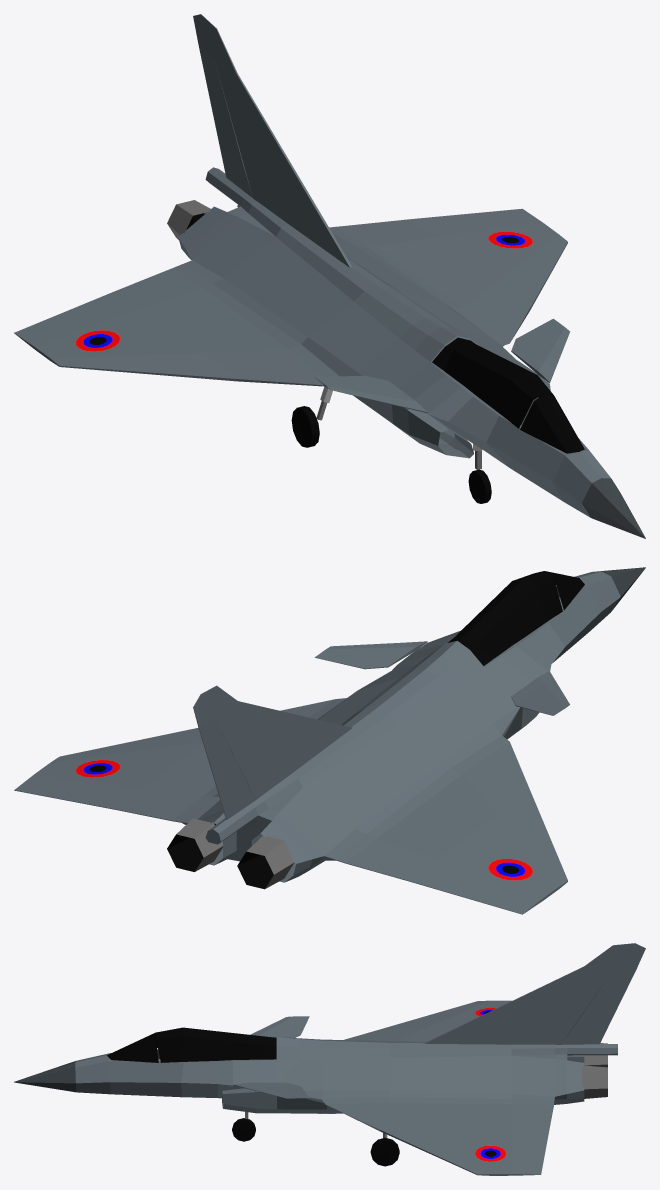
The picture shows the model from 3 angles, top to bottom: view 1: azimuth 30°, elevation 25°; view 2: azimuth 150°, elevation 25°; view 3: azimuth 270°, elevation 25°; orthographic projection. The views are drawn at different scales.
Visible parts, largest first — view 1: Circle.052, Circle.057, Circle.055, Circle.056, Circle.060, Circle.063, Circle.053, Circle.054, Circle.064, Landing gear_RL.009, Landing gear_F.004; view 2: Circle.052, Circle.057, Circle.055, Circle.056, Circle.063, Circle.054, Circle.060, Circle.064, Circle.053; view 3: Circle.052, Circle.057, Circle.056, Circle.063, Circle.064, Circle.053, Circle.060, Landing gear_RL.008, Landing gear_F.004.
Part boxes in pixels (x1,y1,x2,y2): Circle.052: (34, 14, 645, 538); Circle.057: (432, 337, 553, 428); Circle.055: (14, 291, 141, 348); Circle.056: (199, 46, 252, 197); Circle.060: (511, 318, 570, 383); Circle.063: (410, 208, 542, 236); Circle.053: (315, 375, 427, 413); Circle.054: (116, 268, 201, 308); Circle.064: (346, 219, 435, 245); Landing gear_RL.009: (291, 386, 332, 447); Landing gear_F.004: (468, 444, 491, 503); Circle.052: (35, 567, 645, 900); Circle.057: (447, 571, 562, 665); Circle.055: (409, 860, 542, 914); Circle.056: (198, 717, 255, 819); Circle.063: (14, 774, 141, 809); Circle.054: (346, 839, 435, 881); Circle.060: (314, 641, 427, 669); Circle.064: (115, 788, 201, 820); Circle.053: (511, 671, 569, 715); Circle.052: (14, 943, 645, 1175); Circle.057: (155, 1027, 276, 1062); Circle.056: (560, 966, 637, 1044); Circle.063: (511, 1129, 549, 1175); Circle.064: (511, 1104, 553, 1130); Circle.053: (250, 1016, 309, 1037); Circle.060: (233, 1082, 309, 1098); Landing gear_RL.008: (370, 1133, 399, 1166); Landing gear_F.004: (232, 1112, 255, 1141).
Bounding box in the file's own units: 994 × 529 × 1532.
